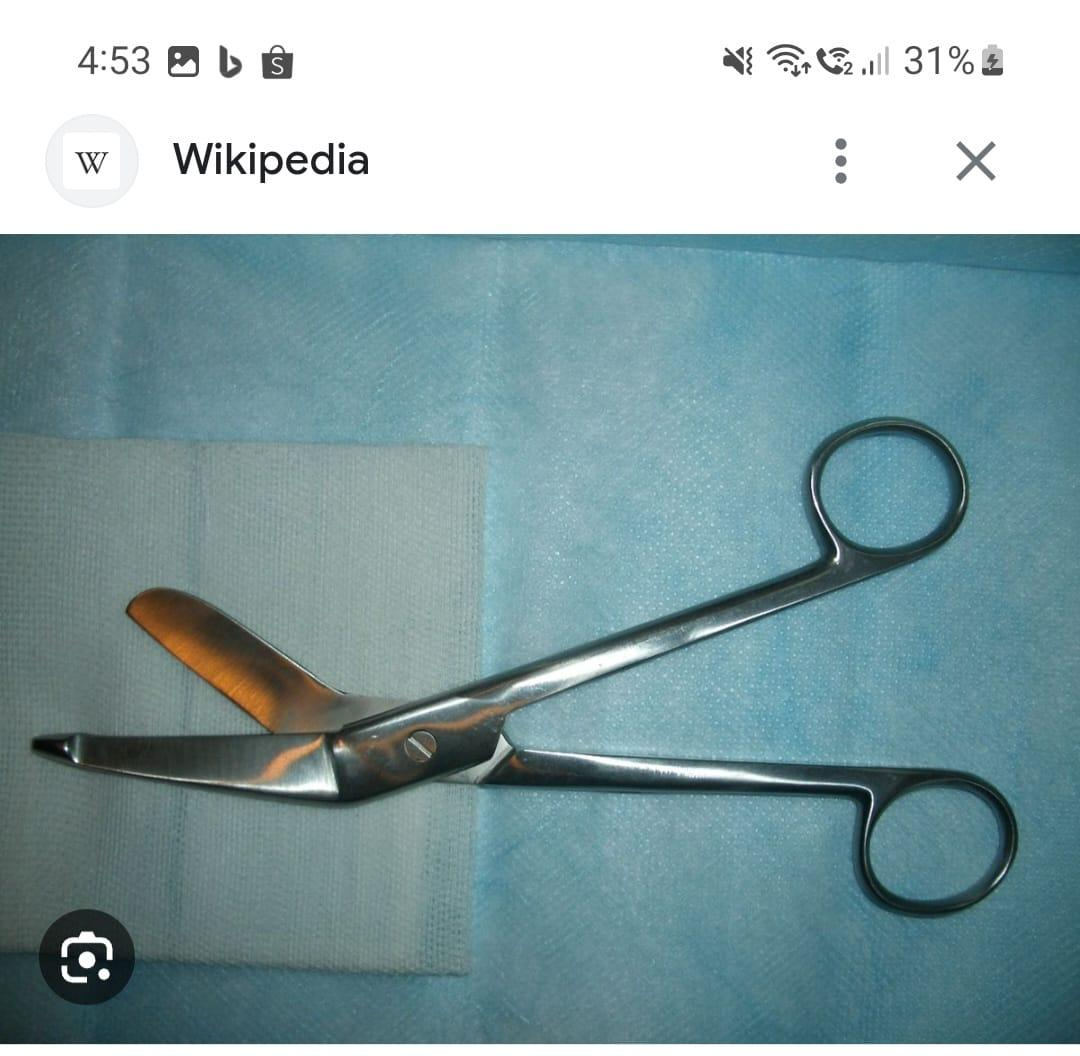Bandage Sciccors: (13, 418, 1015, 925)
